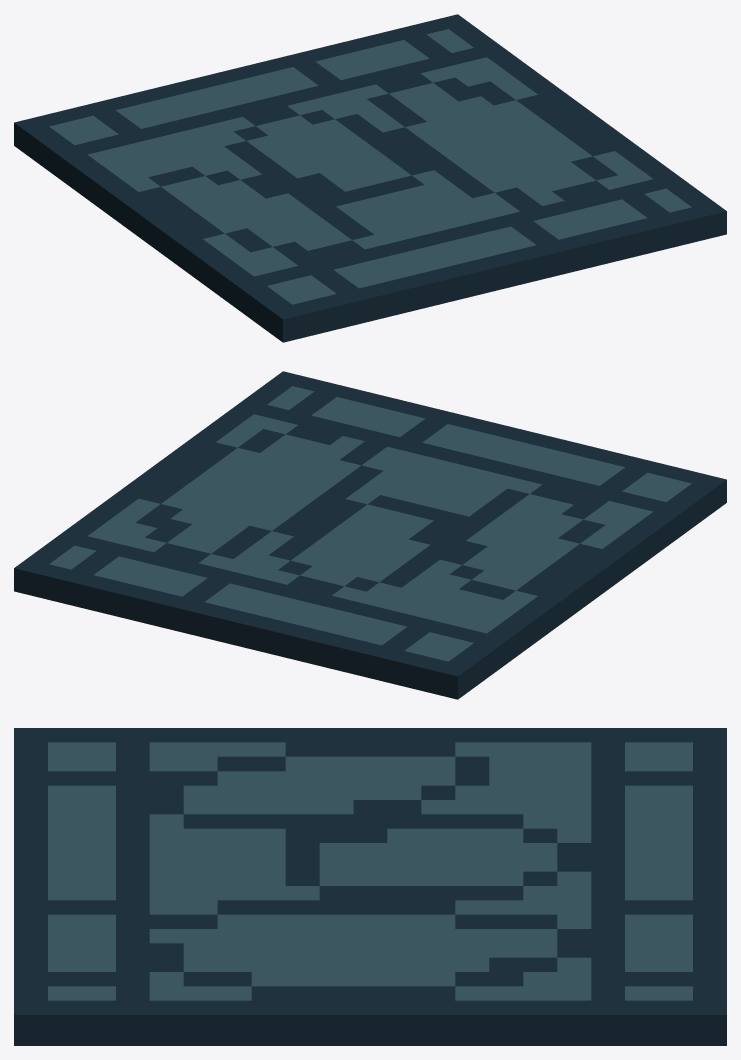
File: artefact_3.fbx
3 views of the same model, one above another, from view 1: azimuth 30°, elevation 25°; view 2: azimuth 150°, elevation 25°; view 3: azimuth 270°, elevation 25° (orthographic). The views are drawn at different scales.
Parts seen in each view (by area): view 1: _14; view 2: _14; view 3: _14.
Boxes of the visible parts, bbox=[...] form: _14: bbox=[14, 14, 726, 342]; _14: bbox=[14, 371, 726, 699]; _14: bbox=[14, 728, 726, 1045].
Size of the model in its own units: 20 by 1 by 21.
